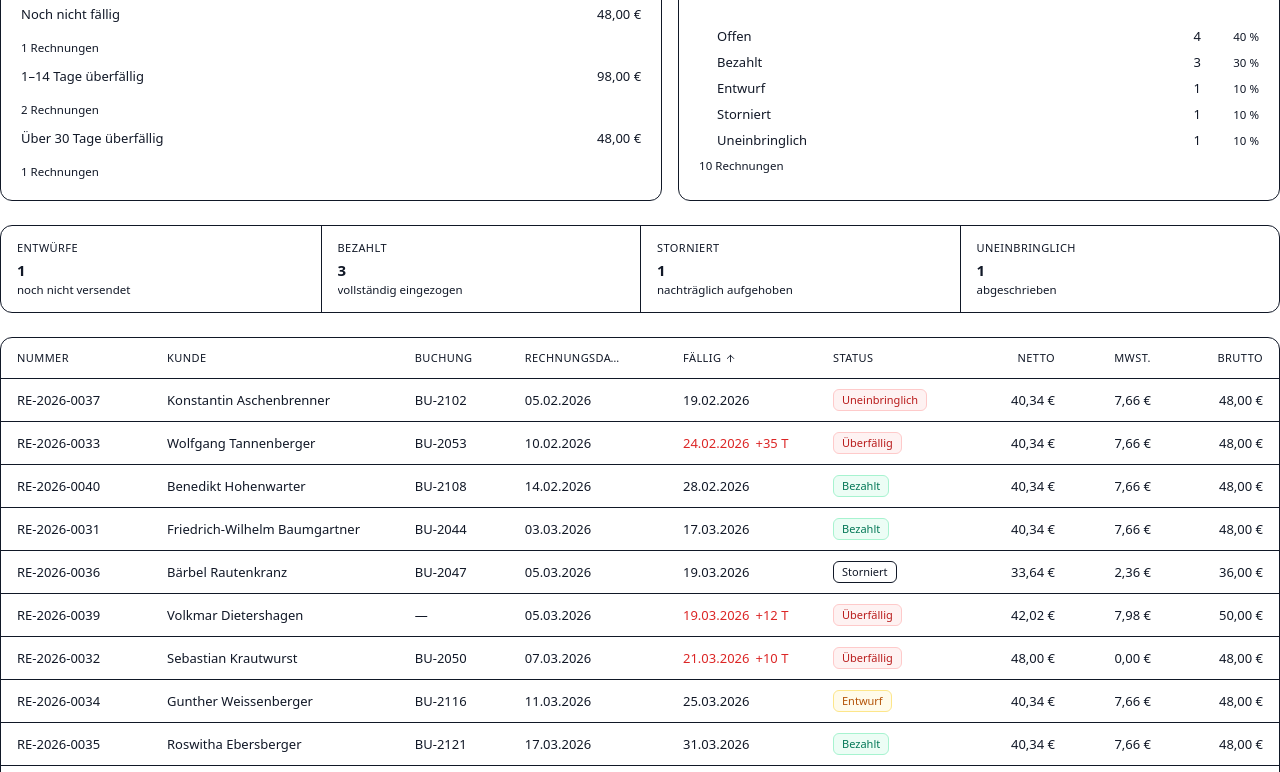
Scenario: detail panel accessibility › marks the row whose detail is open
(page scrolled)
Click the row that starts with "RE-2026-0037": {"x": 640, "y": 400} [1, 379, 1279, 422]
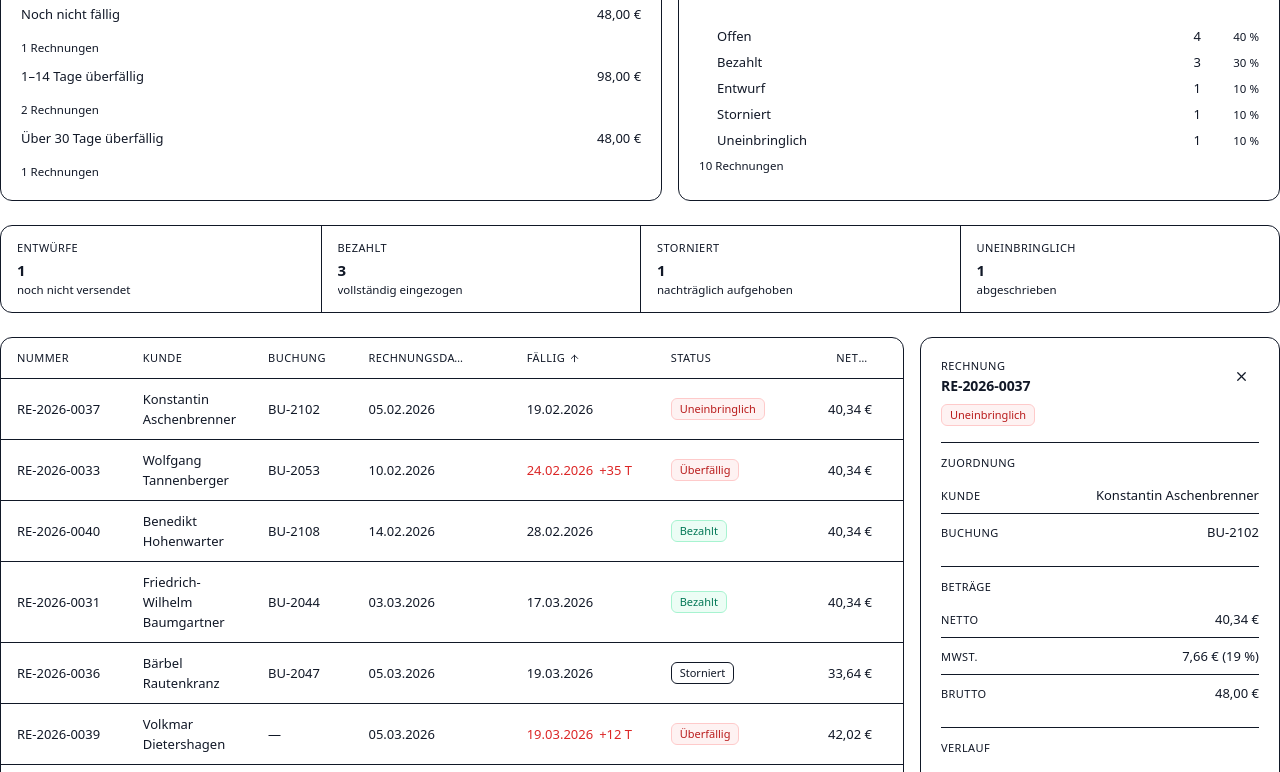
Expected: the row that starts with "RE-2026-0037" has attribute aria-current, [1, 379, 903, 440]
